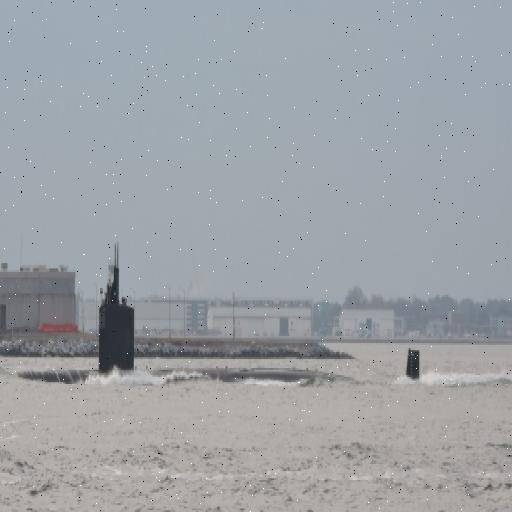submarine: (24, 232, 424, 380)
